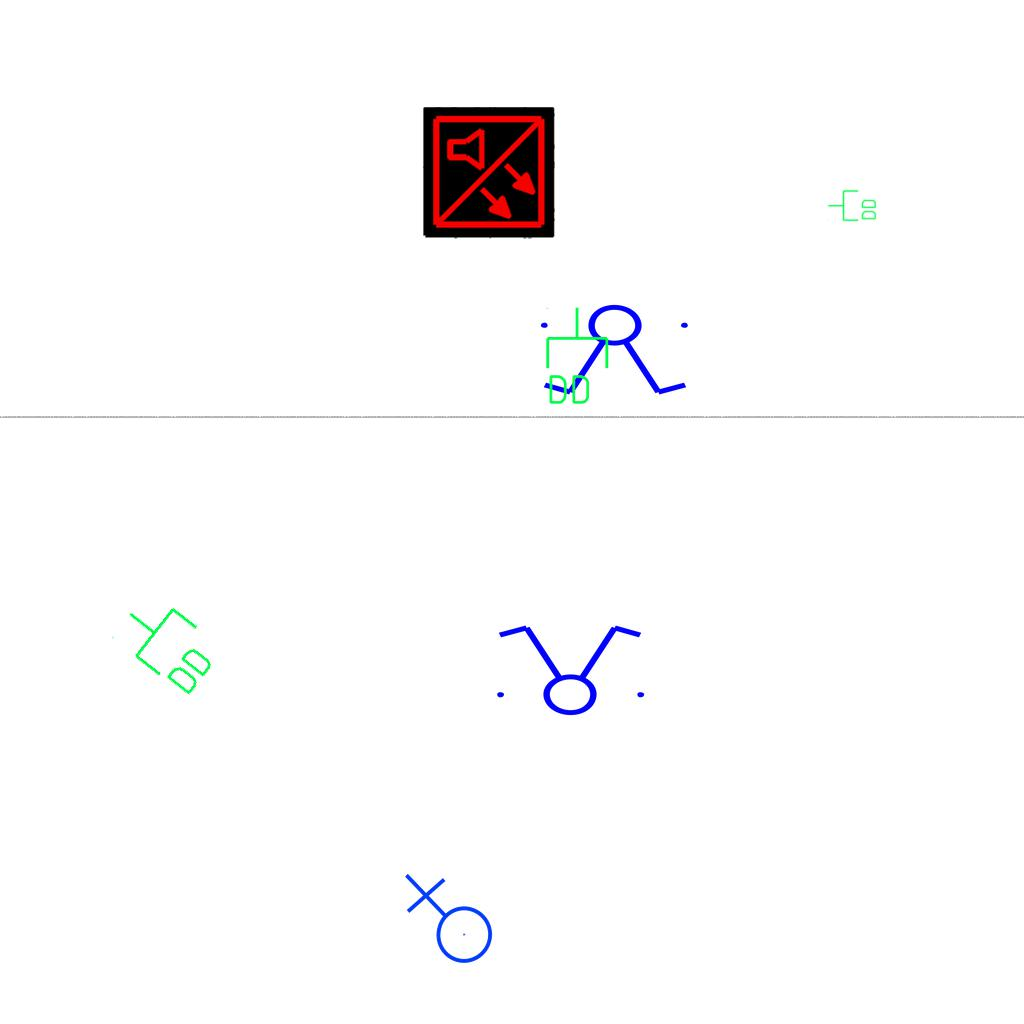Datenanschluss_zweifach: (106, 585, 231, 704), (542, 305, 611, 408), (827, 189, 878, 223)
Elektroanschluss_allgemein_230V_Geraeteanschlussdose_230V: (400, 873, 494, 972)
OKW_Multisensormelder_(Kombination_optischer_Rauch-Kahlenmonoxid_Waerme-Melder): (423, 107, 555, 239)
Serienschalter: (532, 303, 700, 399), (485, 621, 653, 717)
